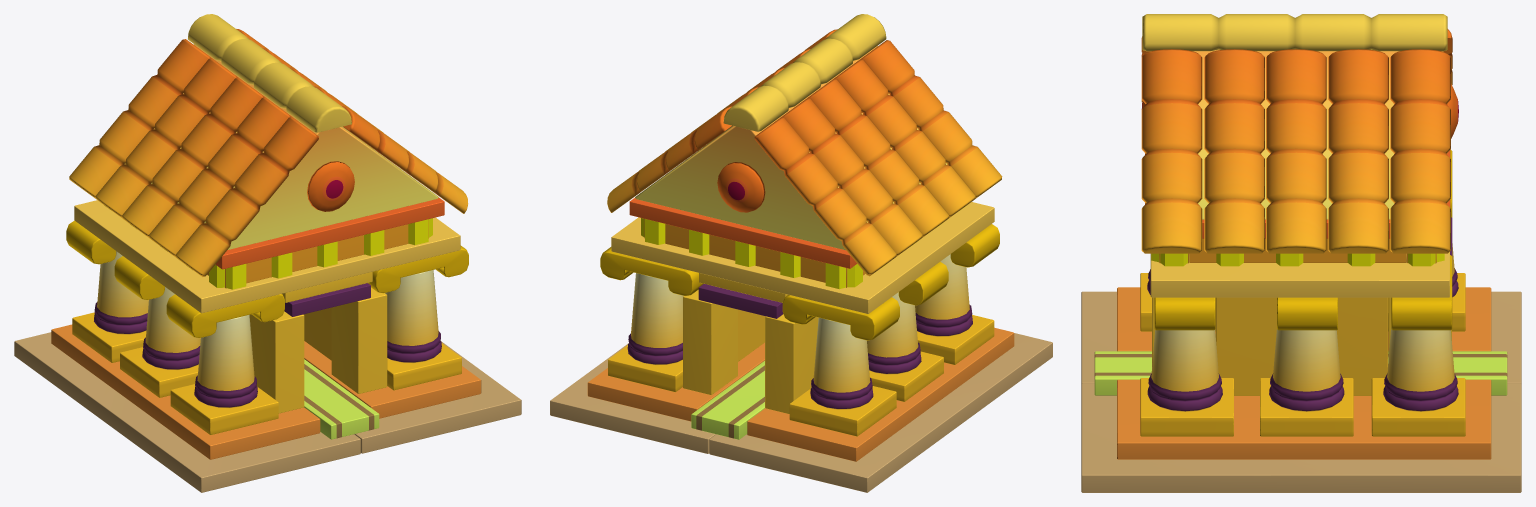
3 views of the same model, side by side, from view 1: azimuth 30°, elevation 25°; view 2: azimuth 150°, elevation 25°; view 3: azimuth 270°, elevation 25° (orthographic). The views are drawn at different scales.
Visible parts, largest first — view 1: LV5_House_2_10, LV2_House_2_7, LV2_House_2_1, LV5_House_2_9, LV1_House_2_2, LV1_House_2_1, LV1_House_2_4, LV1_House_2_3, LV1_House_2_5, LV1_House_2_6, LV5_House_2_11, LV4_House_2_1 (+22 smaller); view 2: LV5_House_2_10, LV2_House_2_7, LV2_House_2_1, LV5_House_2_9, LV1_House_2_6, LV1_House_2_1, LV1_House_2_2, LV1_House_2_3, LV1_House_2_4, LV1_House_2_5, LV5_House_2_11, LV4_House_2_3 (+22 smaller); view 3: LV5_House_2_11, LV5_House_2_8, LV1_House_2_7, LV1_House_2_8, LV1_House_2_10, LV1_House_2_9, LV1_House_2_11, LV1_House_2_1, LV2_House_2_7, LV4_House_2_6, LV4_House_2_11, LV4_House_2_9 (+14 smaller).
Part boxes in pixels (box(x1,y1,x2,y2)): LV5_House_2_10: box(14, 332, 360, 492); LV2_House_2_7: box(74, 200, 460, 313); LV2_House_2_1: box(124, 44, 438, 249); LV5_House_2_9: box(51, 324, 320, 459); LV1_House_2_2: box(176, 117, 318, 276); LV1_House_2_1: box(188, 14, 351, 132); LV1_House_2_4: box(122, 78, 264, 237); LV1_House_2_3: box(149, 97, 291, 257); LV1_House_2_5: box(95, 58, 238, 217); LV1_House_2_6: box(69, 39, 211, 198); LV5_House_2_11: box(354, 341, 521, 453); LV4_House_2_1: box(331, 287, 387, 394); LV5_House_2_10: box(709, 333, 1052, 492); LV2_House_2_7: box(611, 202, 994, 313); LV2_House_2_1: box(635, 46, 947, 250); LV5_House_2_9: box(747, 327, 1014, 461); LV1_House_2_6: box(754, 117, 896, 276); LV1_House_2_1: box(723, 14, 886, 131); LV1_House_2_2: box(860, 40, 1002, 198); LV1_House_2_3: box(834, 59, 975, 217); LV1_House_2_4: box(807, 79, 948, 236); LV1_House_2_5: box(781, 98, 922, 256); LV5_House_2_11: box(550, 343, 715, 453); LV4_House_2_3: box(683, 290, 737, 395); LV5_House_2_11: box(1081, 383, 1521, 492); LV5_House_2_8: box(1117, 379, 1491, 459); LV1_House_2_7: box(1141, 49, 1202, 253); LV1_House_2_8: box(1204, 49, 1264, 253); LV1_House_2_10: box(1328, 49, 1388, 253); LV1_House_2_9: box(1266, 49, 1326, 253); LV1_House_2_11: box(1390, 49, 1450, 253); LV1_House_2_1: box(1142, 14, 1447, 51); LV2_House_2_7: box(1150, 252, 1449, 297); LV4_House_2_6: box(1215, 297, 1387, 395); LV4_House_2_11: box(1383, 327, 1458, 411); LV4_House_2_9: box(1269, 329, 1344, 411).
Bounding box in the file's own units: 12.98 × 12.66 × 13.12.
